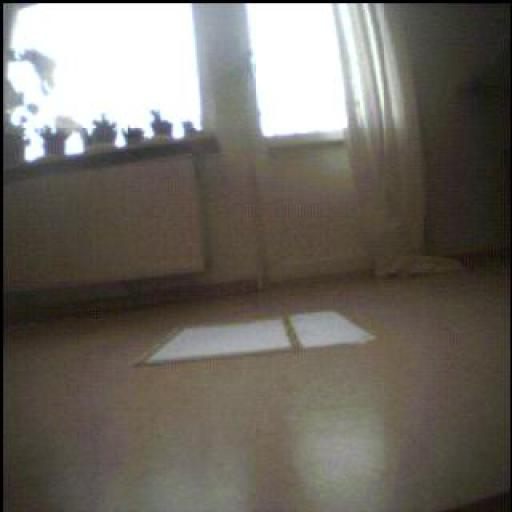Pad: (134, 304, 371, 362)
